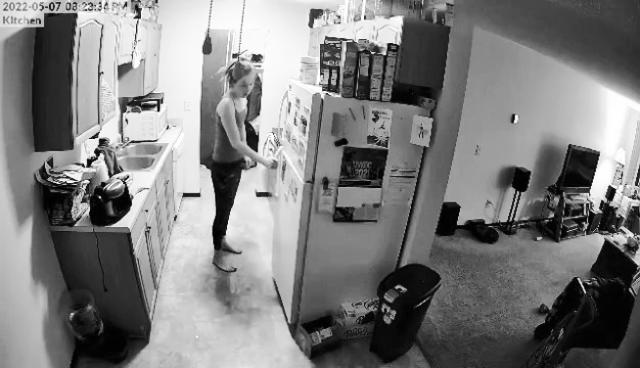berdiri: (207, 52, 279, 280)
